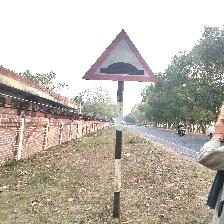Speed-breaker: (82, 30, 157, 81)
